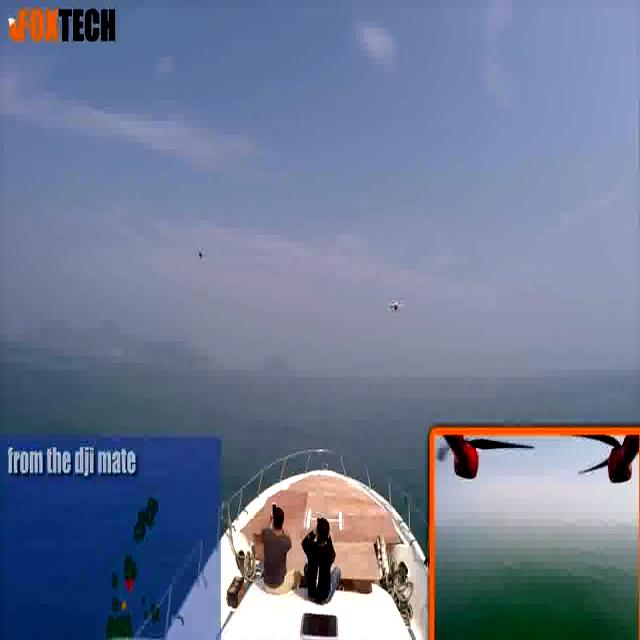drone: (383, 292, 408, 321)
